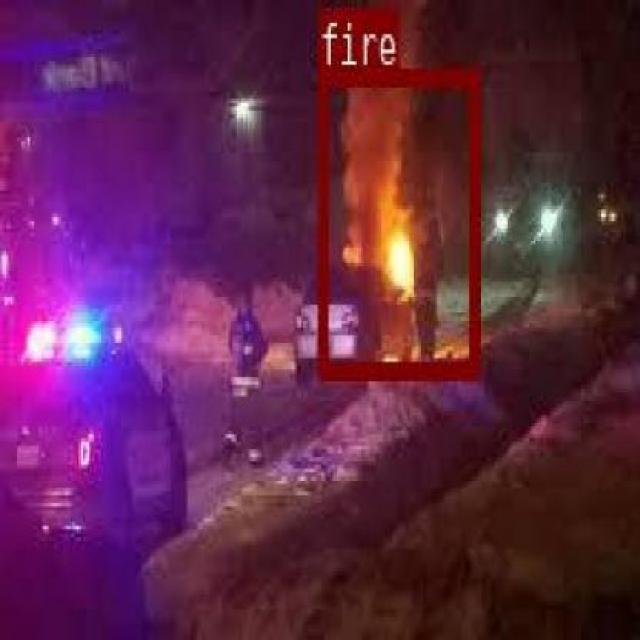Fire: (162, 220, 397, 308)
